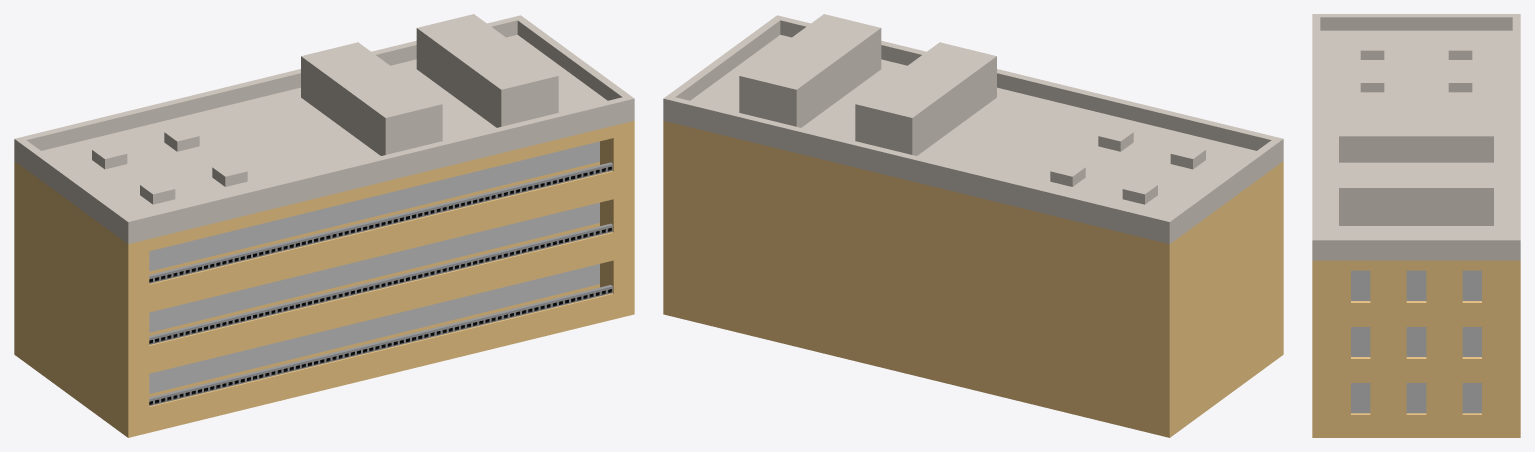
File: Town_Bld-PublicB.FBX
3 views of the same model, side by side, from view 1: azimuth 30°, elevation 25°; view 2: azimuth 150°, elevation 25°; view 3: azimuth 270°, elevation 25° (orthographic). The views are drawn at different scales.
Parts seen in each view (by area): view 1: Town_Bld-PublicB; view 2: Town_Bld-PublicB; view 3: Town_Bld-PublicB.
Boxes of the visible parts, x1,y1,x2,y2 form: Town_Bld-PublicB: (14, 14, 634, 437); Town_Bld-PublicB: (663, 14, 1283, 437); Town_Bld-PublicB: (1312, 14, 1520, 437).
Size of the model in its own units: 1541 by 706 by 600.
